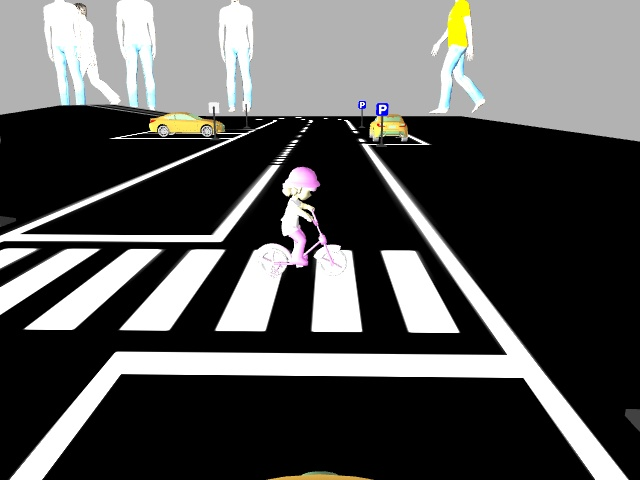Parking: (373, 100, 389, 117), (356, 98, 368, 109)
Pedestrian: (254, 162, 348, 277)
